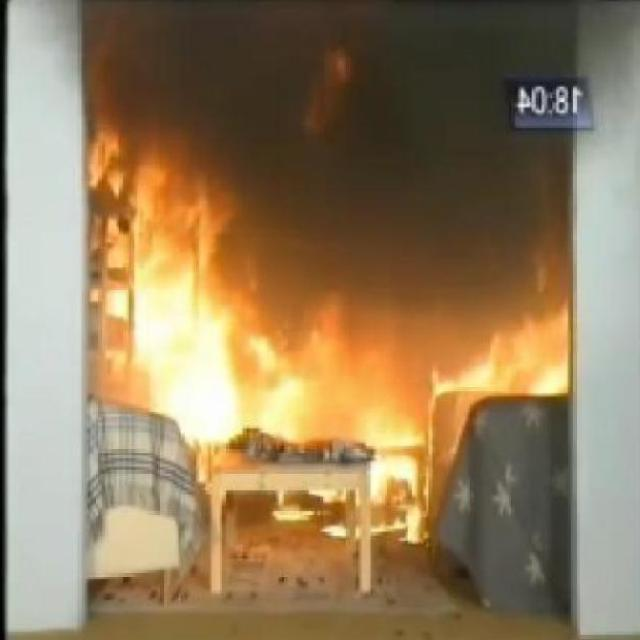smoke: (58, 108, 240, 466), (246, 332, 429, 546), (430, 296, 574, 398)
